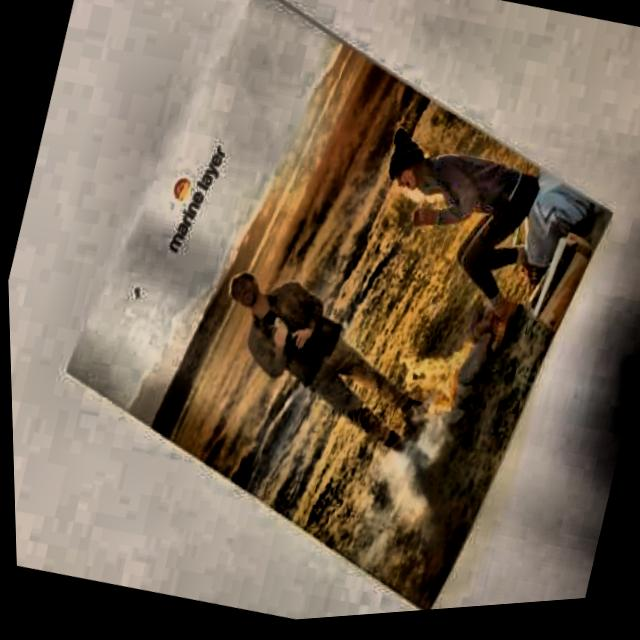Paper: (4, 0, 640, 640)
